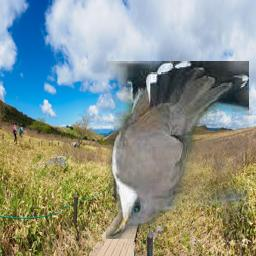Cuckoo: (107, 61, 250, 239)
